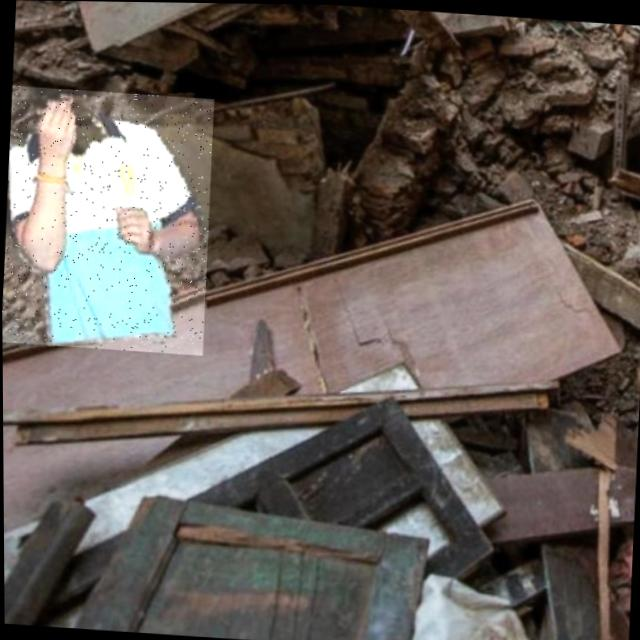Person in Rubble: (0, 85, 215, 354)
